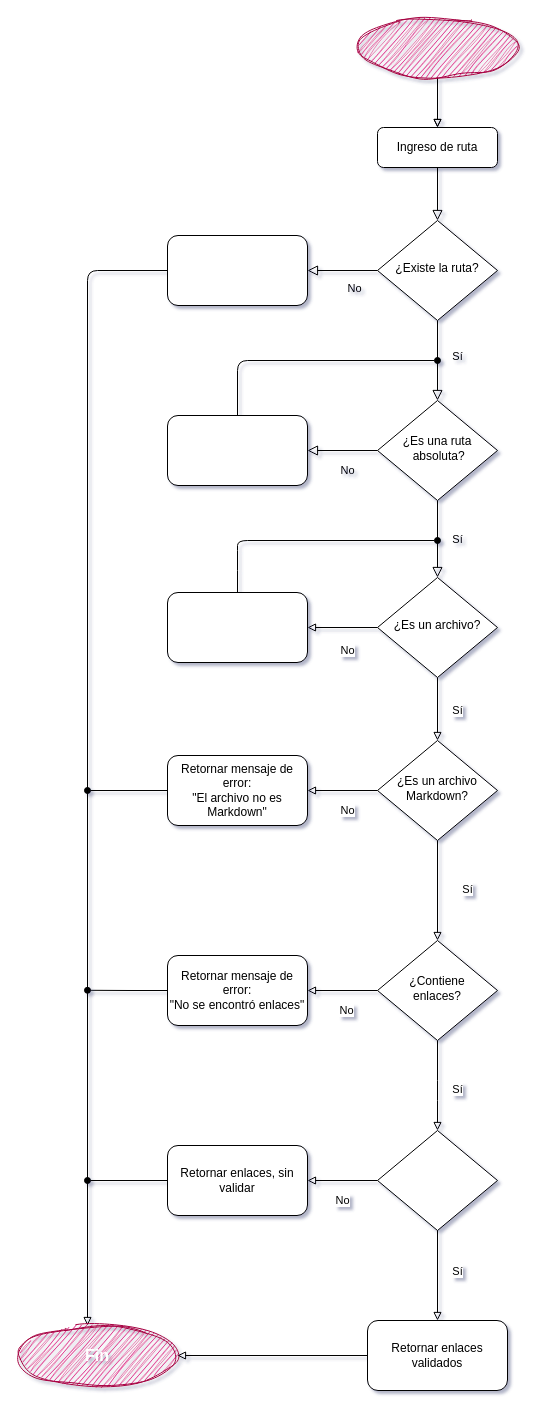
The diagram is 541 pixels wide and 1414 high, and some of its shapes have lost their labels. Here are the shapes that lost their labels. From the top down, the centre of each, then its label:
[437,47]: Inicio
[237,270]: Retornar mensaje de error: "La ruta no es válida"
[237,450]: Convertir a ruta absoluta
[237,627]: Recorrer directorio
[437,1180]: ¿Validar enlaces?
